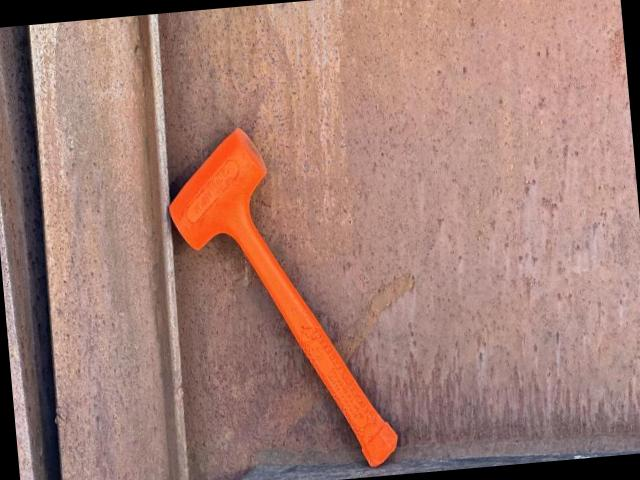hammer: (163, 114, 402, 480)
